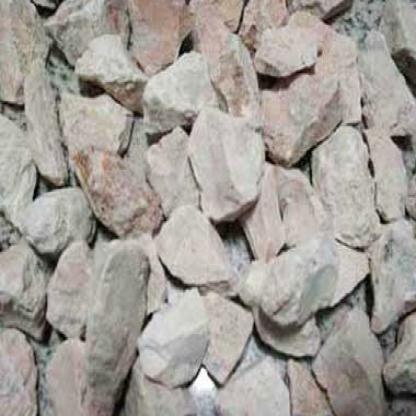Sedimentary_Limestone: (183, 109, 271, 235), (78, 236, 142, 398), (249, 66, 350, 163), (77, 145, 175, 240), (258, 250, 368, 332), (134, 279, 216, 367), (57, 87, 147, 156), (313, 340, 390, 414), (366, 215, 415, 327), (252, 13, 329, 84), (77, 35, 143, 108), (386, 309, 415, 410)
